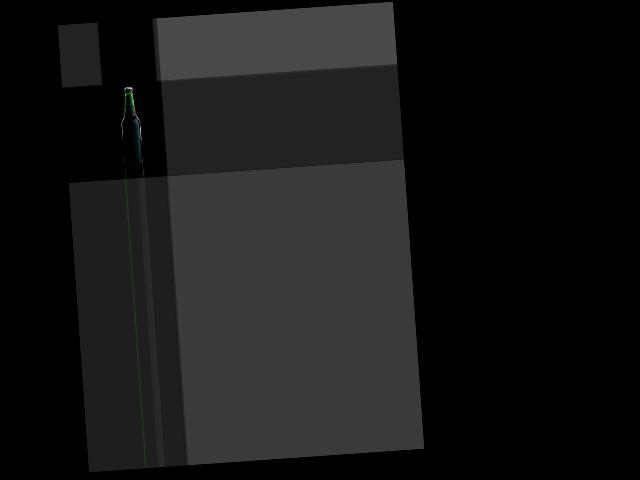beer: (119, 86, 144, 166)
